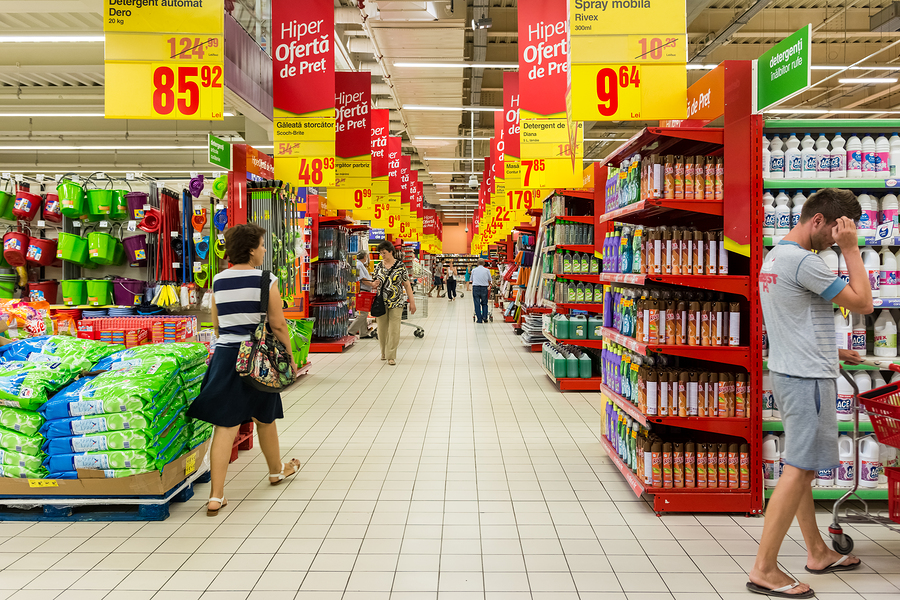Age_20_30: (792, 192, 866, 258), (227, 224, 276, 277)
Age_30_40: (371, 244, 393, 267)
E_White: (792, 192, 866, 258), (227, 224, 276, 277), (371, 244, 393, 267)
Emotion_Neutral: (792, 192, 866, 258), (227, 224, 276, 277), (371, 244, 393, 267)
G_ Female: (227, 224, 276, 277), (371, 244, 393, 267)
G_Male: (792, 192, 866, 258)
